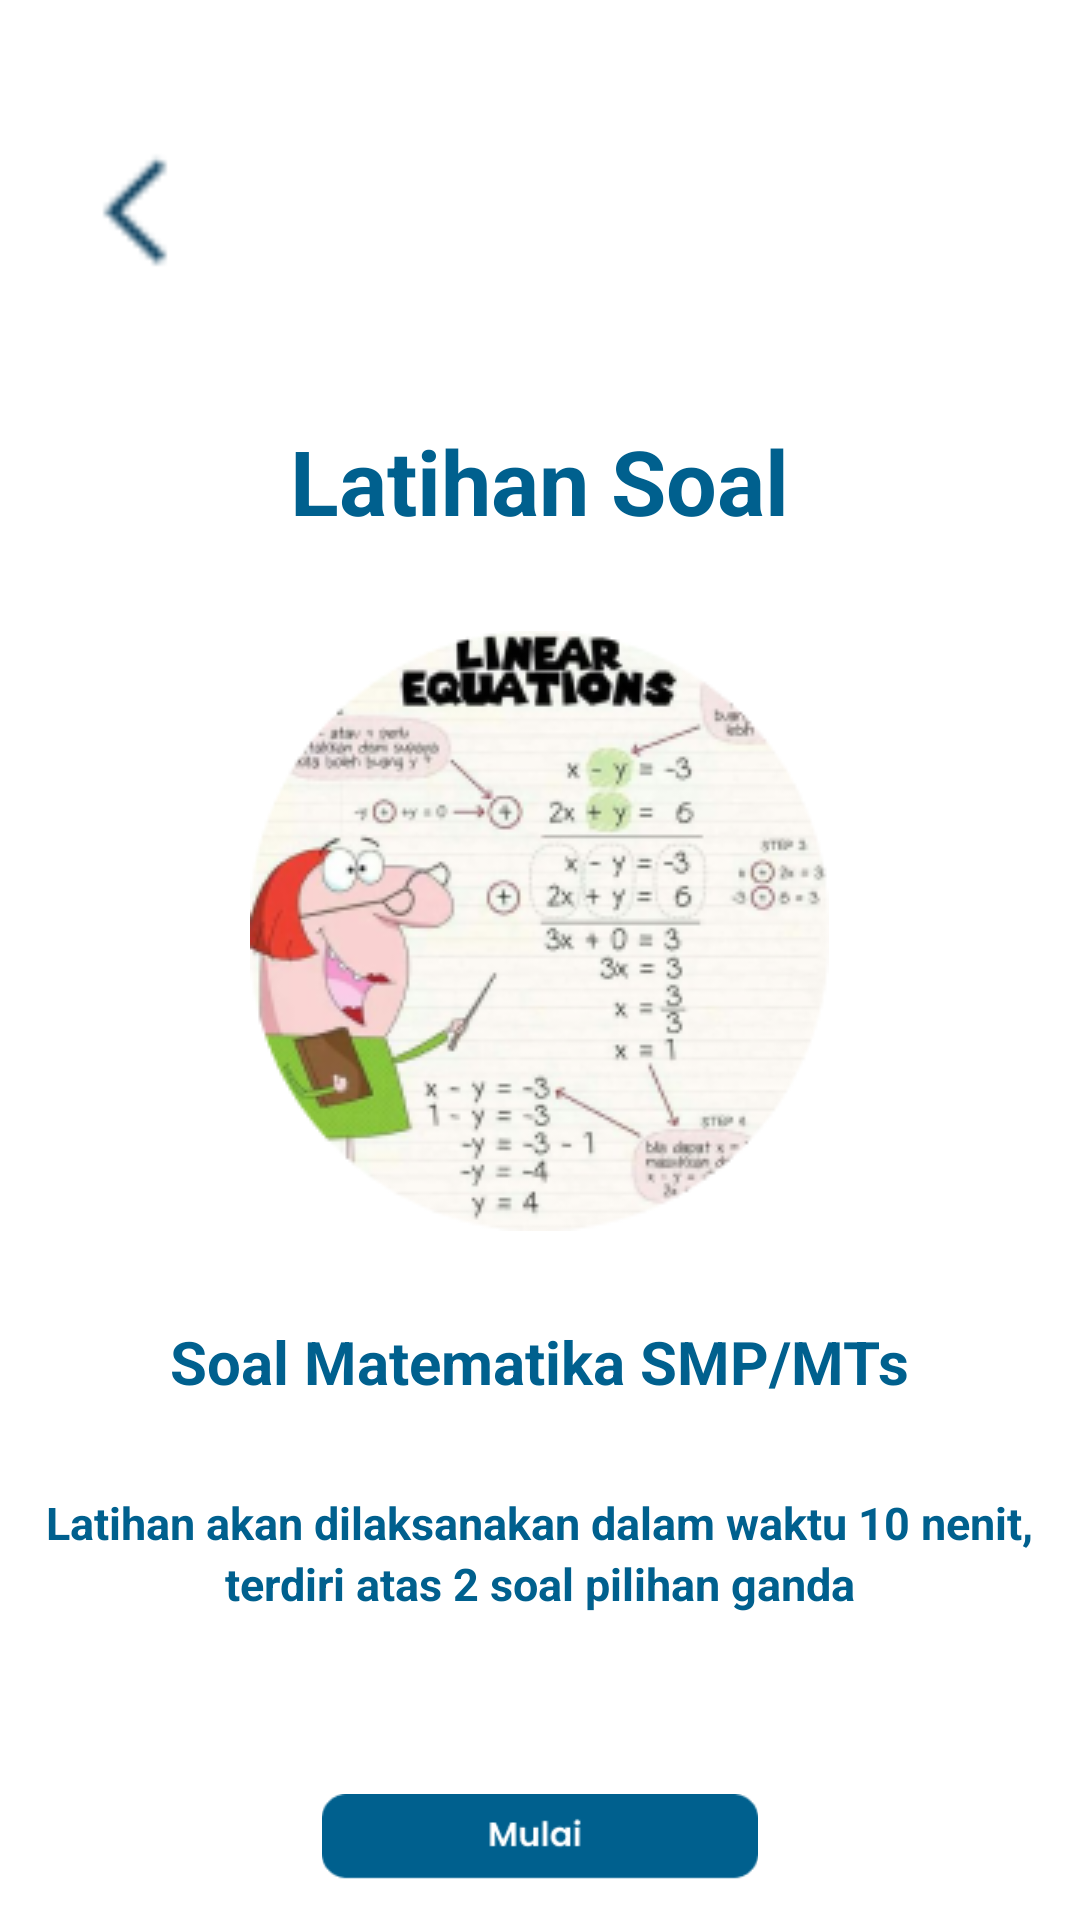

Point at icon controls on the screen. Image size 1080×1920, points as [x,y].
kembali: [135,212]
